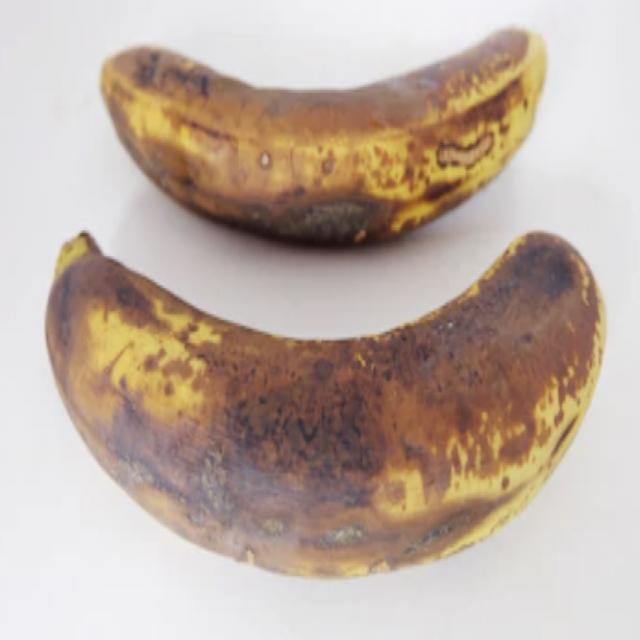rotten-banana: (43, 233, 608, 573), (103, 20, 558, 250)
